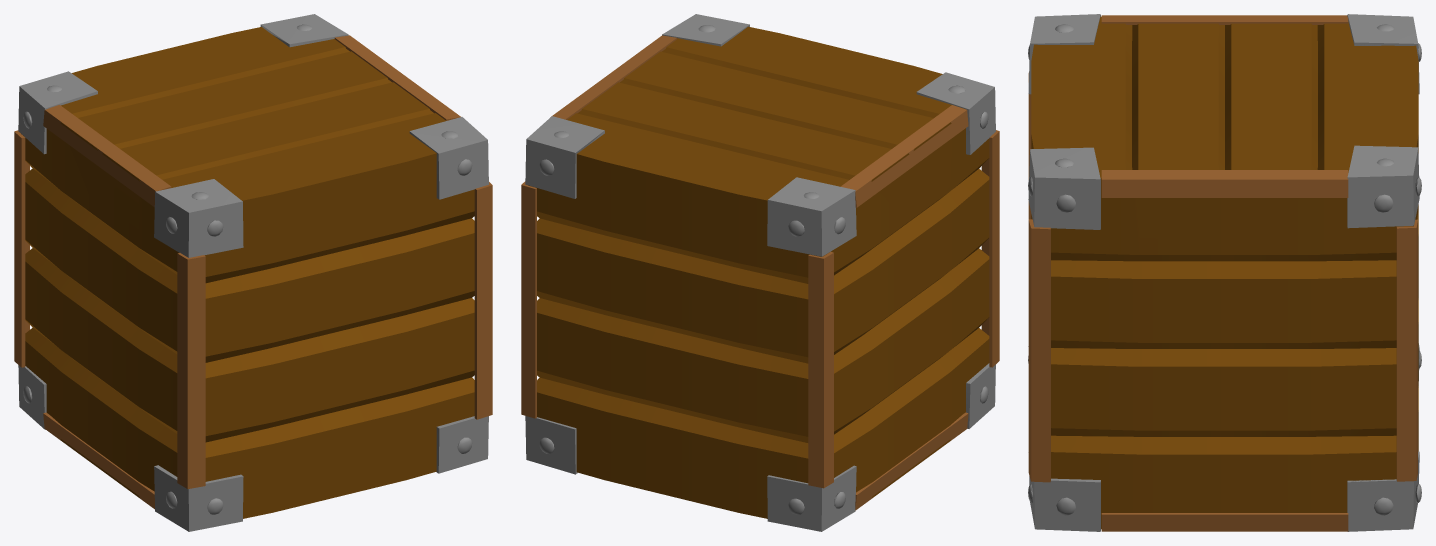
The picture shows the model from 3 angles, left to right: view 1: azimuth 30°, elevation 25°; view 2: azimuth 150°, elevation 25°; view 3: azimuth 270°, elevation 25°; orthographic projection. The views are drawn at different scales.
Parts seen in each view (by area): view 1: Cube.003; view 2: Cube.003; view 3: Cube.003.
Boxes of the visible parts, x1,y1,x2,y2 form: Cube.003: (14,14,492,531); Cube.003: (521,14,999,531); Cube.003: (1028,14,1421,531).
Bounding box in the file's own units: 204 × 204 × 203.
